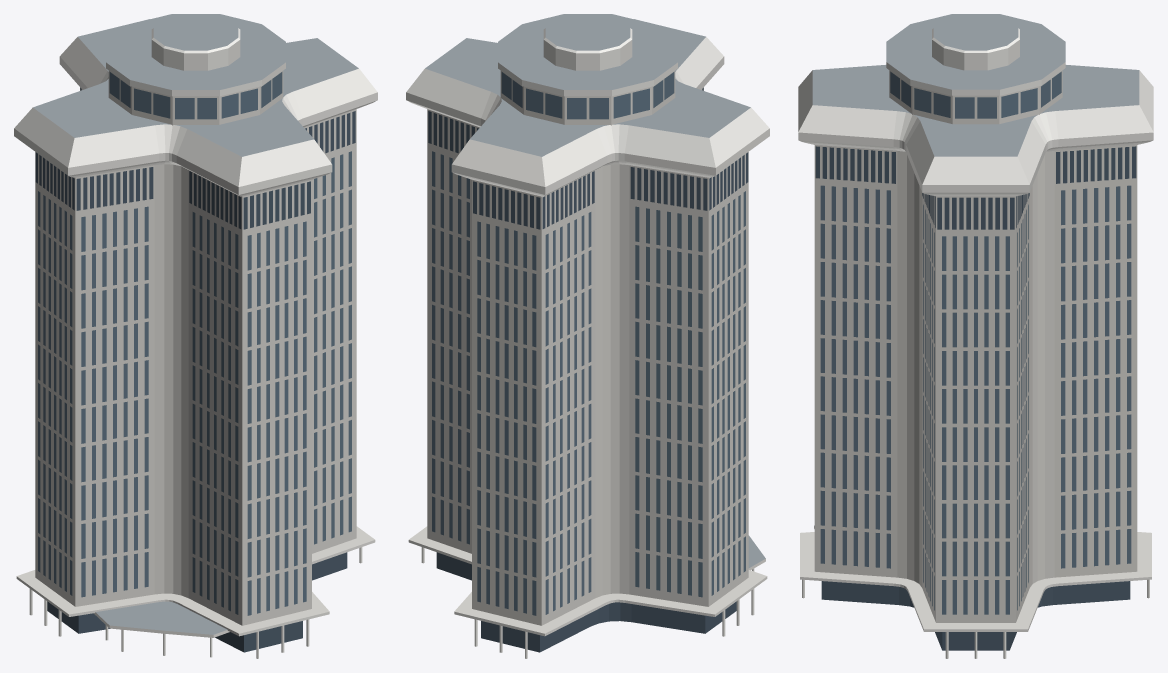
File: nola-four-seasons.glb
The picture shows the model from 3 angles, left to right: view 1: azimuth 30°, elevation 25°; view 2: azimuth 150°, elevation 25°; view 3: azimuth 270°, elevation 25°; orthographic projection.
Parts seen in each view (by area): view 1: Four Seasons Hotel New Orleans; view 2: Four Seasons Hotel New Orleans; view 3: Four Seasons Hotel New Orleans.
Boxes of the visible parts, <box> form: Four Seasons Hotel New Orleans: <box>14,14,377,658</box>; Four Seasons Hotel New Orleans: <box>406,14,769,658</box>; Four Seasons Hotel New Orleans: <box>798,14,1153,658</box>.
Size of the model in its own units: 74 by 127 by 74.
